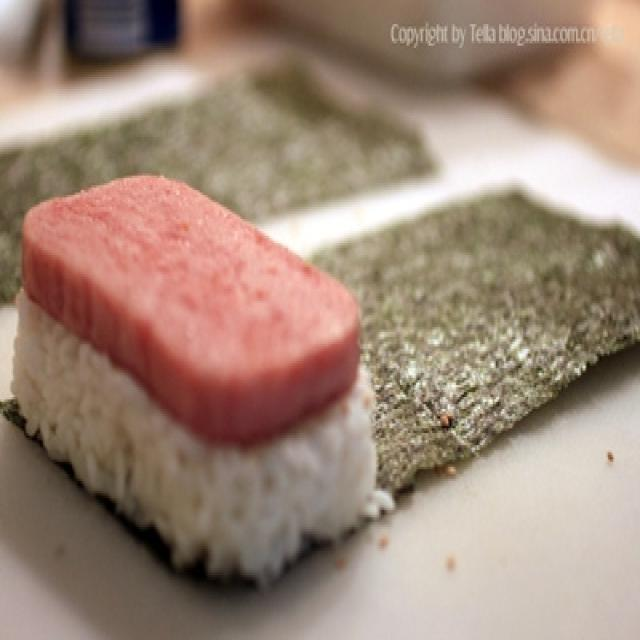寿司卷物: (3, 65, 637, 601)
